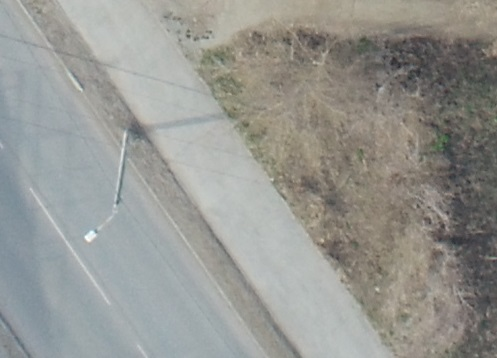opora: (84, 116, 172, 244)
